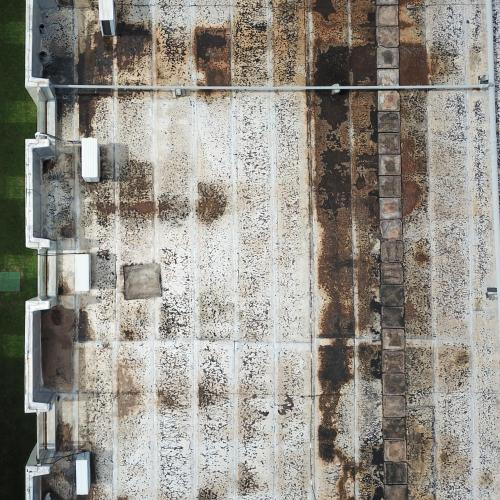conde: (78, 138, 104, 187), (70, 252, 98, 296), (74, 449, 94, 500), (96, 1, 120, 40)
